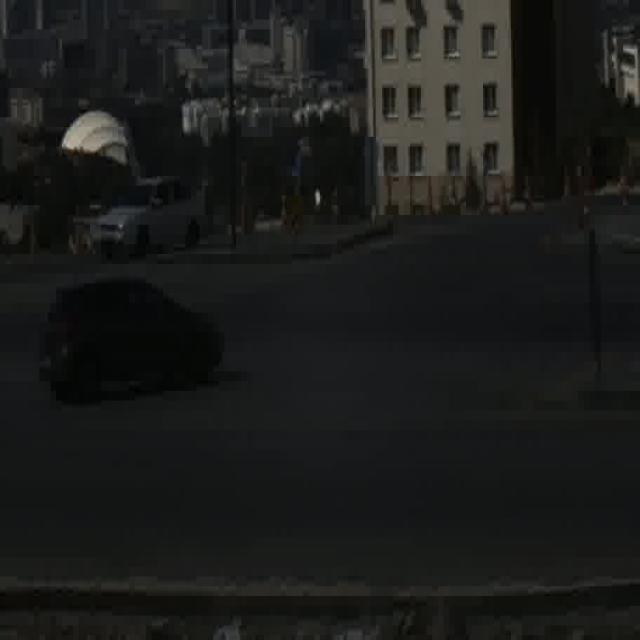Car: (41, 274, 224, 405), (92, 174, 201, 262)
